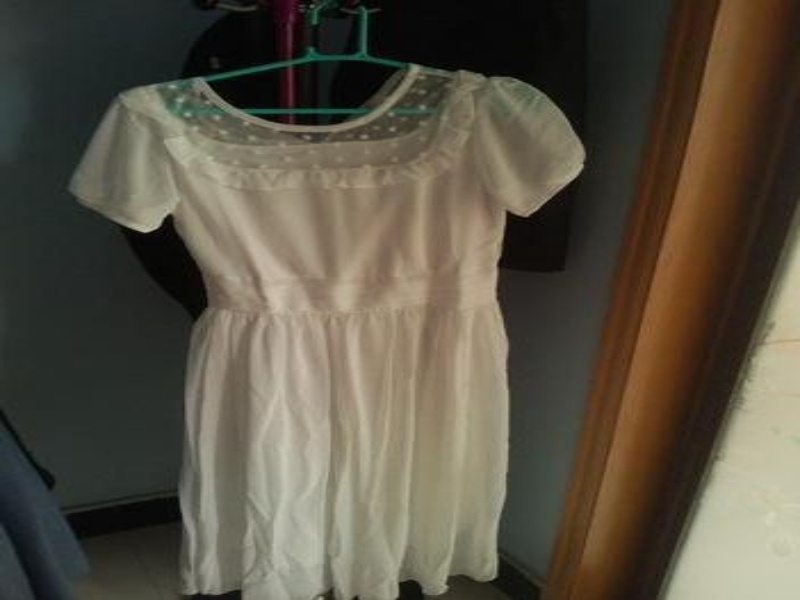short_sleeved_dress: (59, 55, 606, 599)
